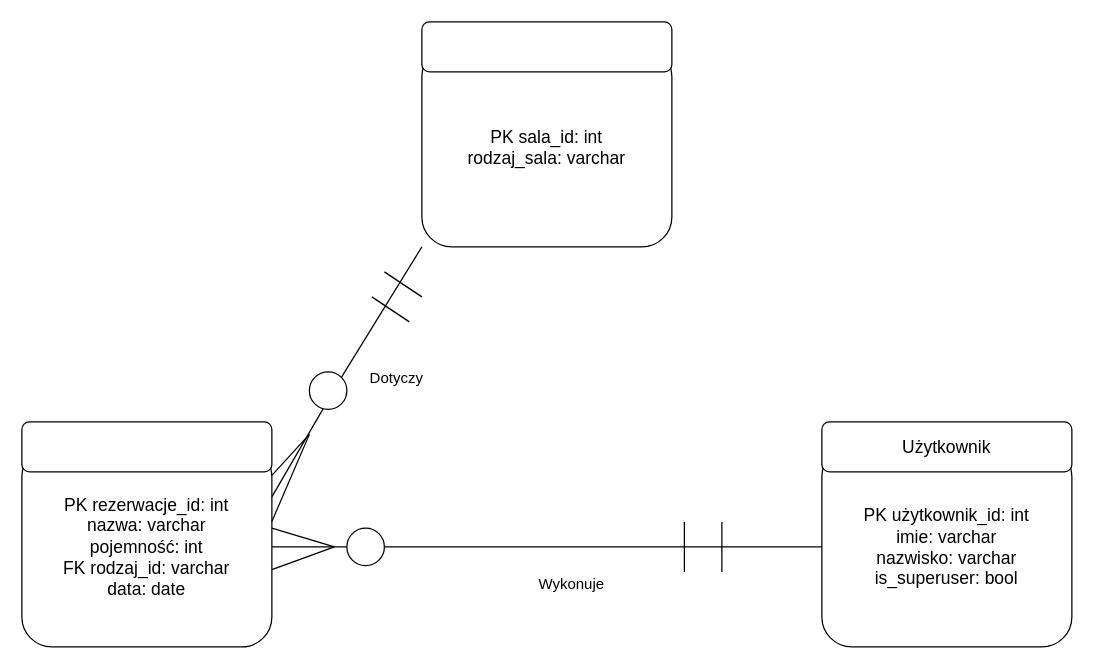
Image size: 1094x669. Some labels were removed from this diagram. Here are the shapes that lost their labels. From the top down, the centre of each, then its label:
point 546,46: Sala
point 146,446: rezerwacje
